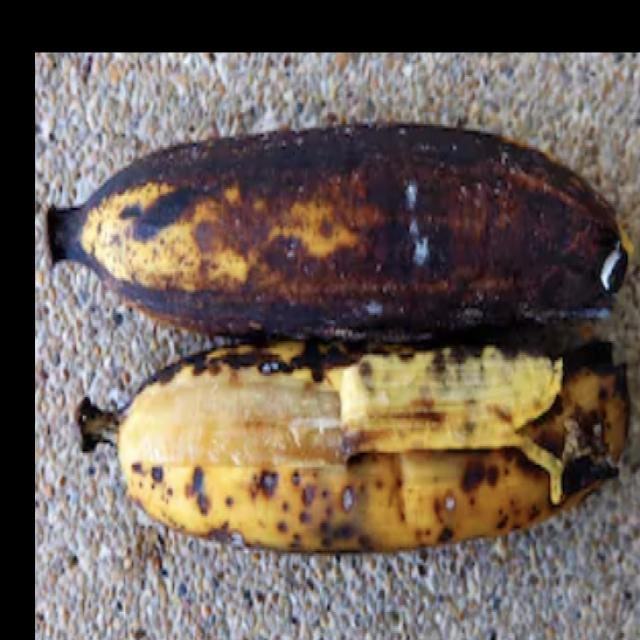Rotten: (34, 102, 640, 340), (33, 345, 640, 570)
